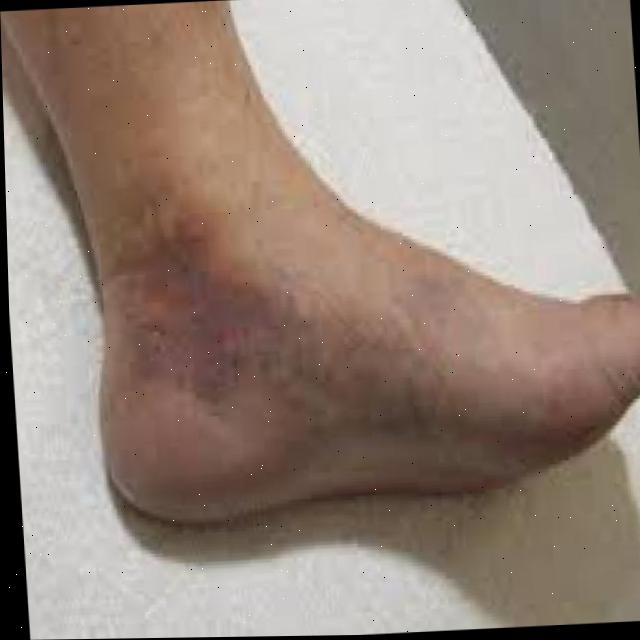Eczema: (103, 232, 558, 483)
